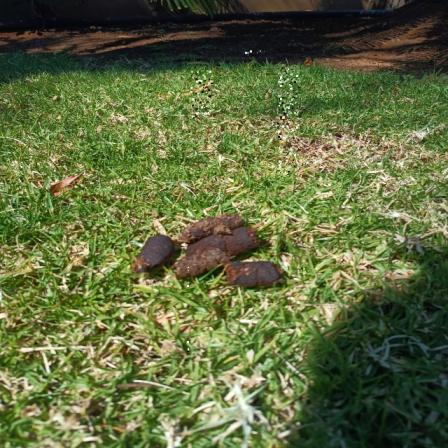dog-poop: (134, 211, 285, 294)
